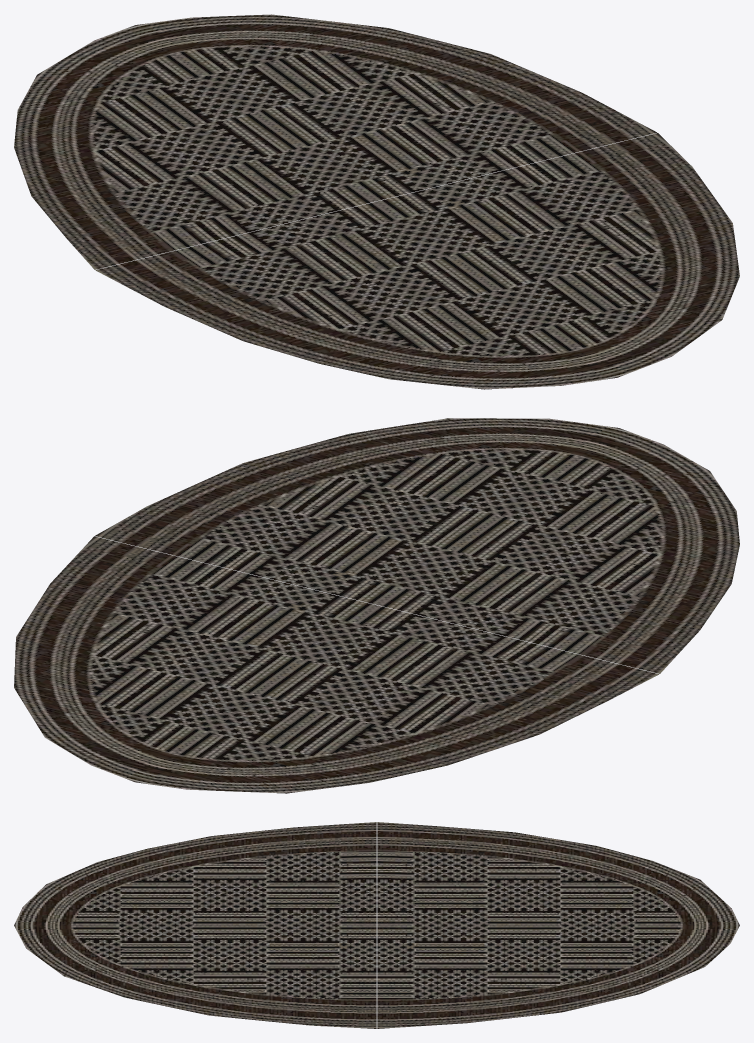
File: frn_mdrn_rug_oval_lg_s01.fbx
3 renders of one model, top to bottom at view 1: azimuth 30°, elevation 25°; view 2: azimuth 150°, elevation 25°; view 3: azimuth 270°, elevation 25°, orthographic. The views are drawn at different scales.
Parts seen in each view (by area): view 1: mesh_node; view 2: mesh_node; view 3: mesh_node.
Part boxes in pixels (box(x1,y1,x2,y2)): mesh_node: box(14, 14, 739, 389); mesh_node: box(14, 418, 739, 793); mesh_node: box(14, 822, 739, 1028).
Bounding box in the file's own units: 5.35 × 0 × 7.93.
1 material, 1 textured.
